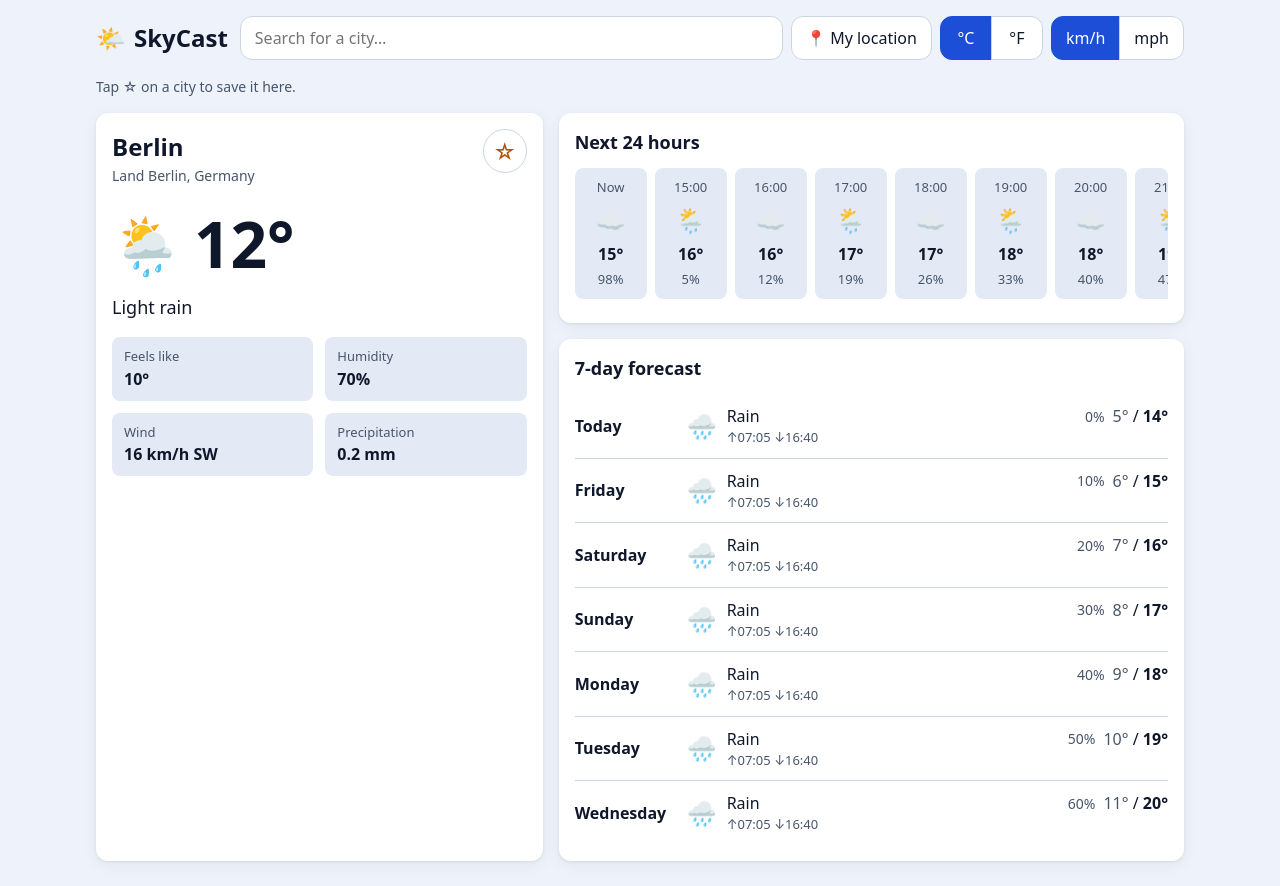
Scenario: App › FR-6 adds, selects and removes favourites
The width and height of the screenshot is (1280, 886).
Click the button named "Add Berlin to favourites" at point(505, 151), box [483, 129, 527, 173]
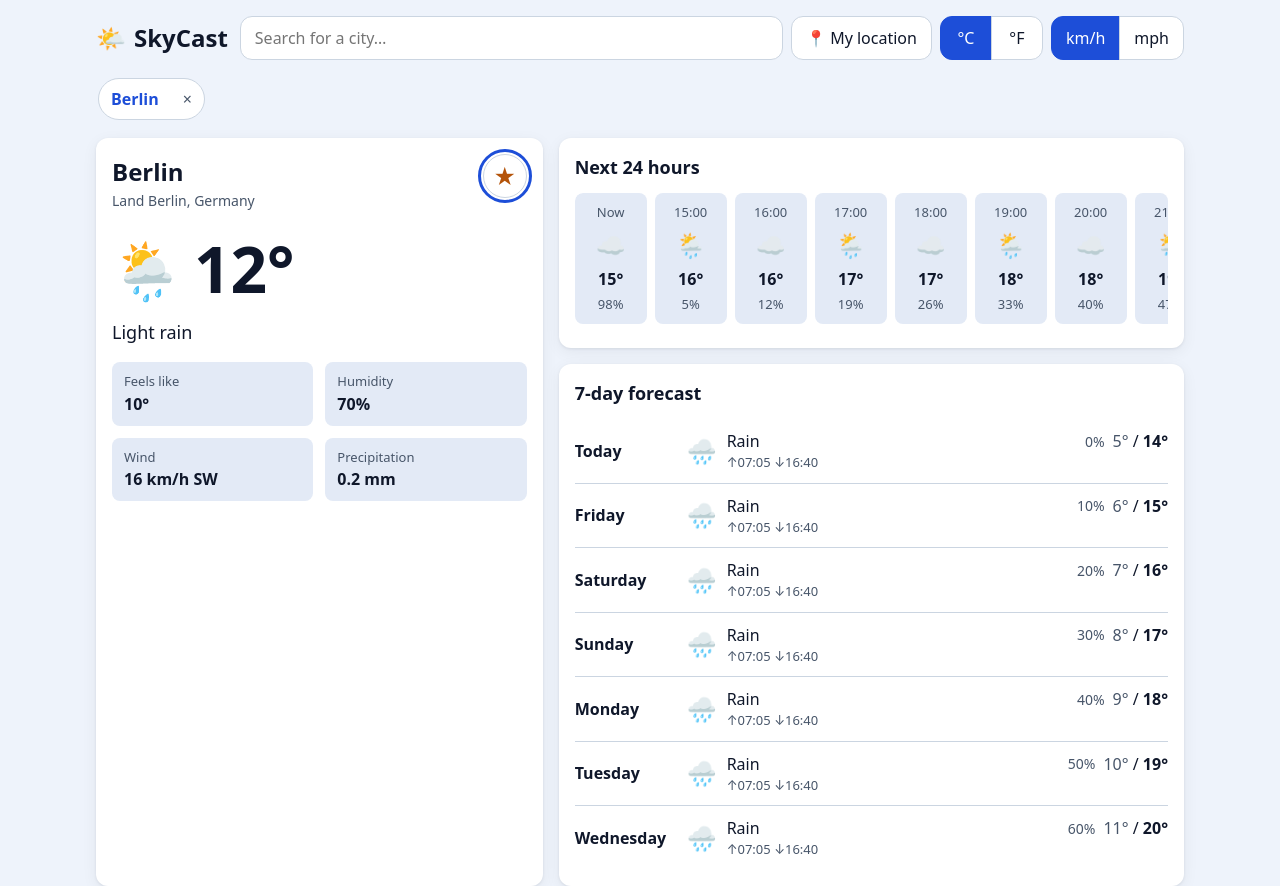
Click the button "Berlin" at point(135, 99), box [99, 79, 171, 119]
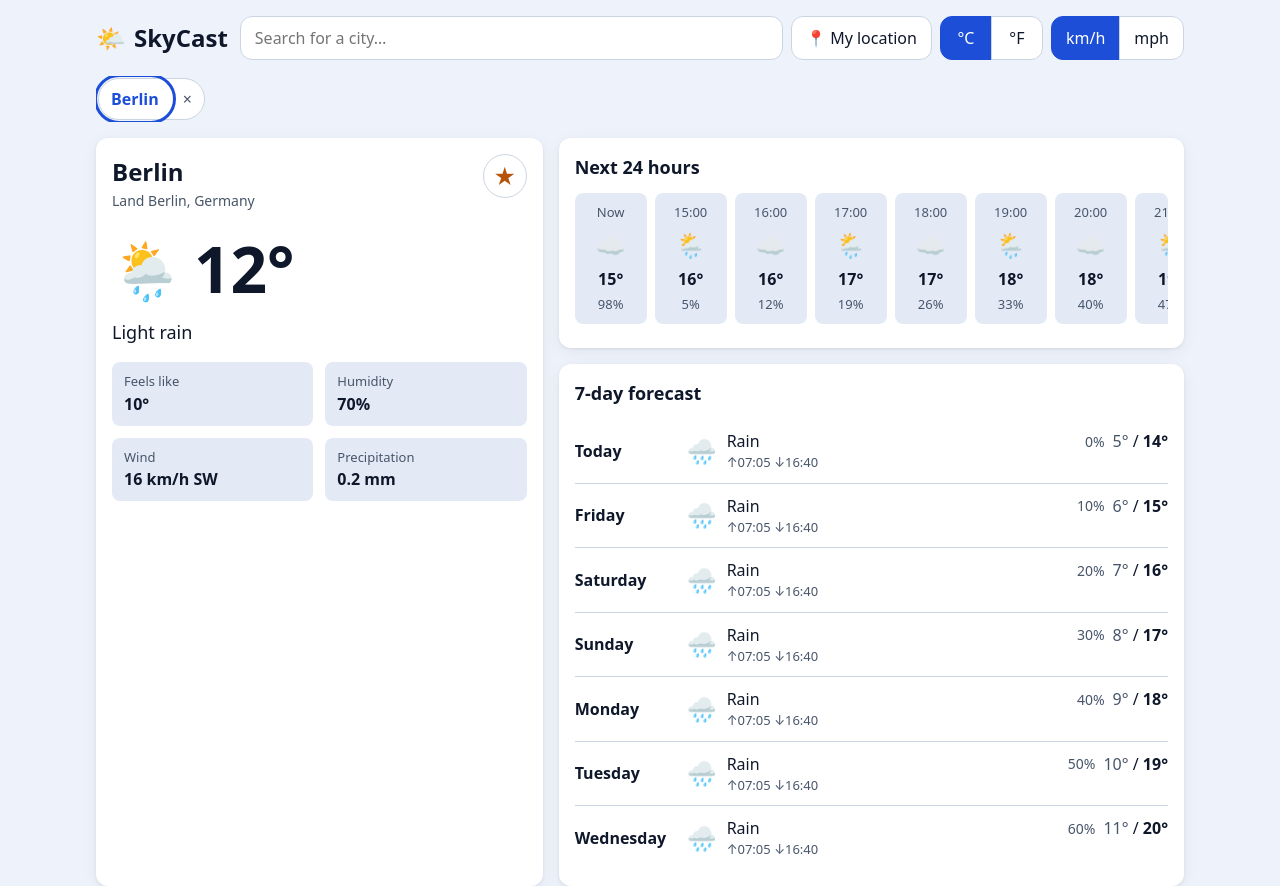
Click the button named "Remove Berlin from favourites" at point(505, 176), box [483, 154, 527, 198]
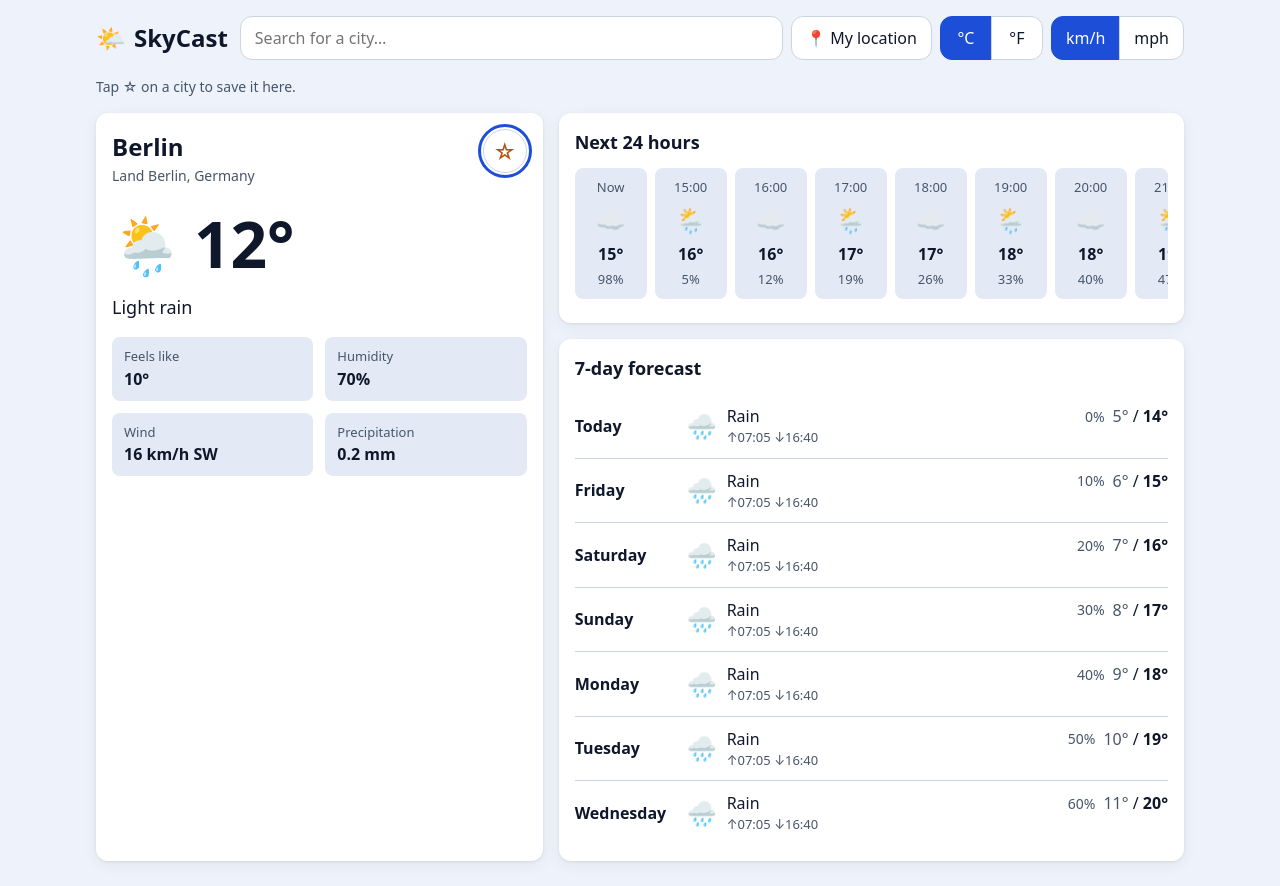
Now the button named "Add Berlin to favourites" is shown, box [483, 129, 527, 173]
